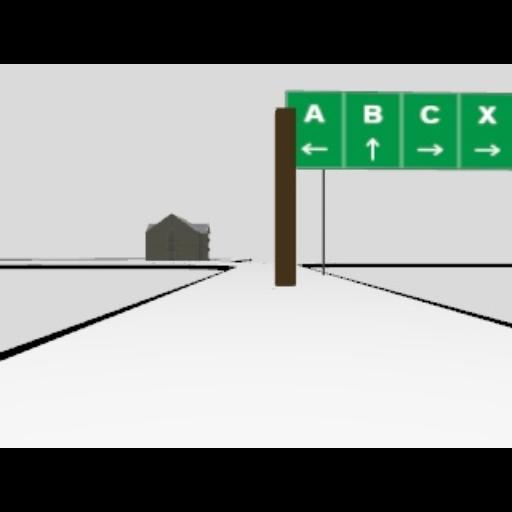A: (303, 102, 325, 124)
B: (364, 104, 382, 124)
C: (420, 104, 440, 124)
Left: (300, 142, 328, 156)
Right: (414, 142, 444, 156), (472, 144, 500, 156)
Straight: (365, 136, 379, 160)
X: (476, 104, 496, 124)
